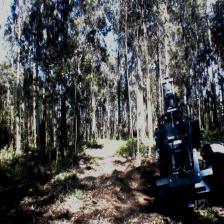trunktrack_idkeyframe: (60, 106, 67, 157)
